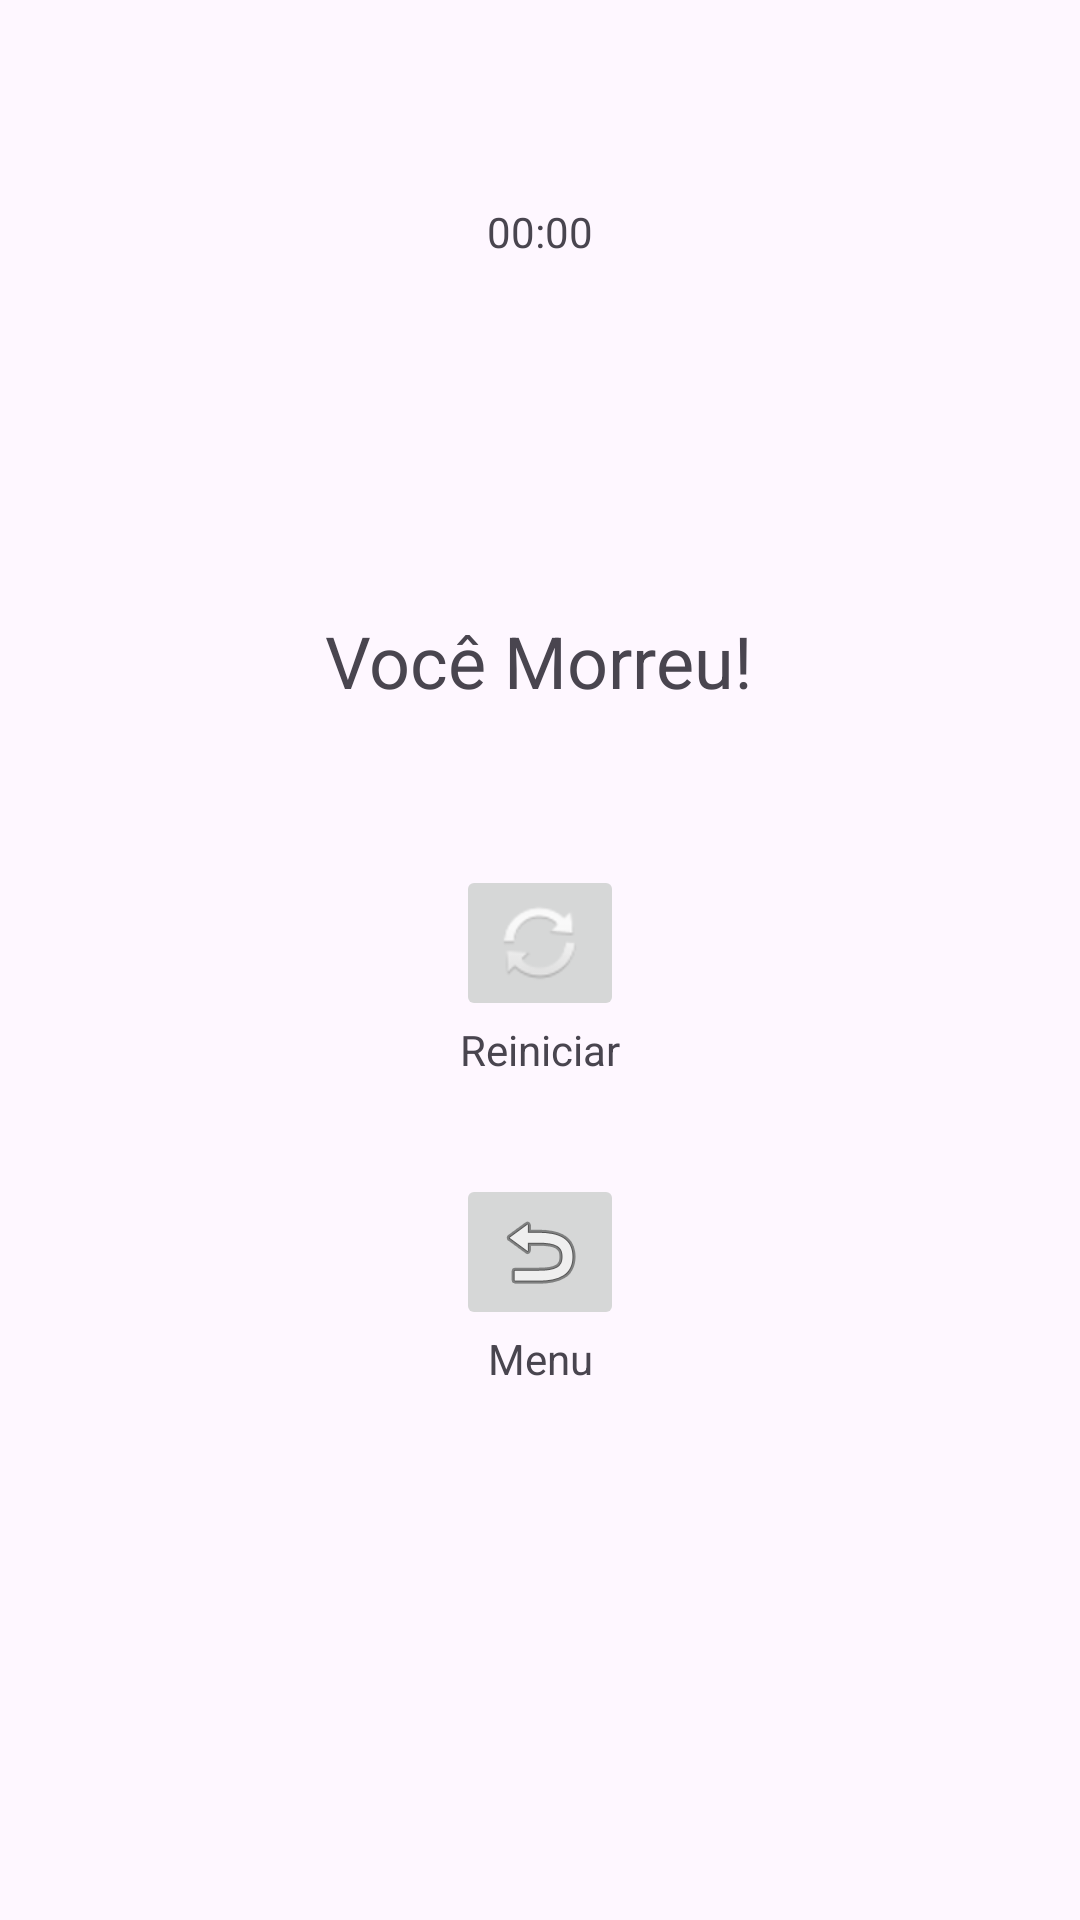

Where to tap for icons on this 1080w x 1920h app screen, as [x,y]:
popup sync: [540,943]
revert: [540,1252]
